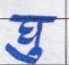u_matra: (9, 45, 45, 63)
